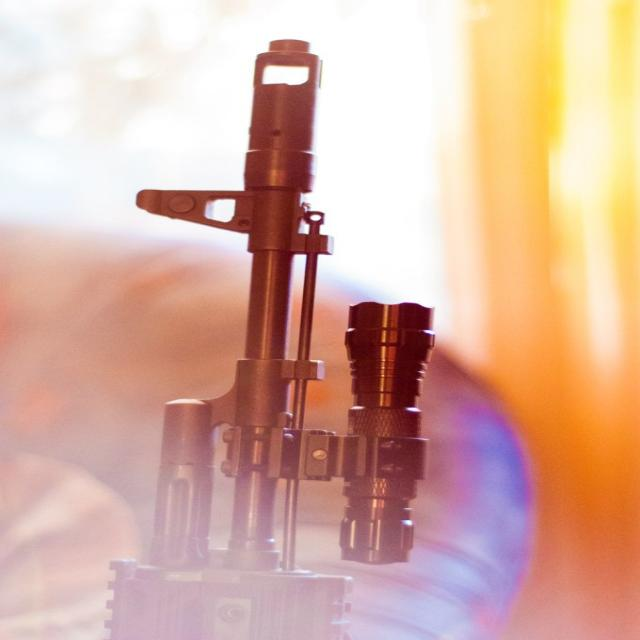firearm: (101, 35, 437, 640)
